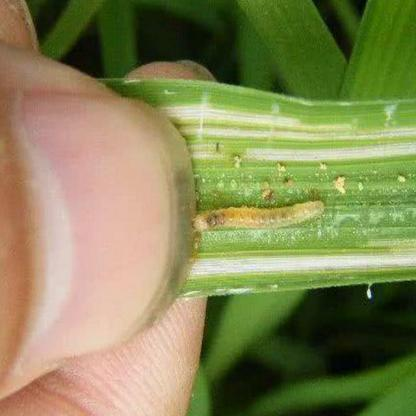leaf-folder: (192, 178, 320, 244)
